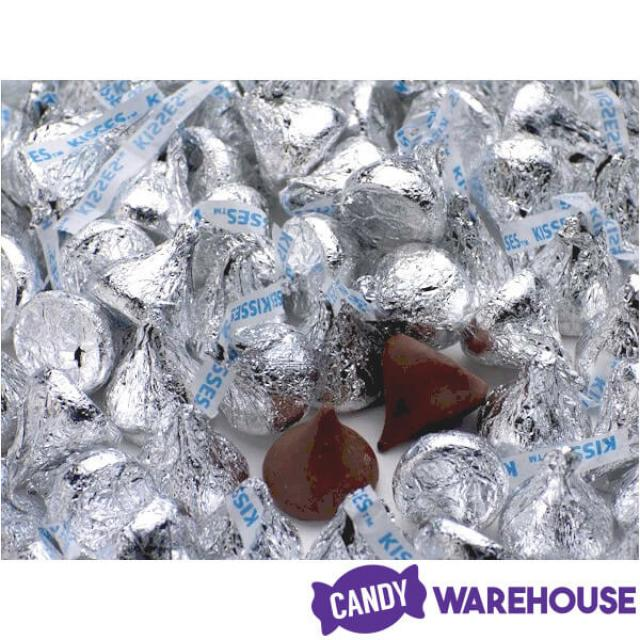kisses: (13, 358, 129, 507), (232, 80, 362, 196), (498, 438, 622, 559), (374, 426, 505, 539), (502, 330, 599, 478), (352, 238, 476, 352), (139, 396, 252, 519), (532, 223, 636, 352), (96, 220, 206, 339), (461, 250, 560, 373), (107, 124, 210, 239), (13, 284, 117, 394), (236, 318, 340, 428), (408, 81, 505, 194), (11, 111, 111, 212), (333, 152, 441, 243), (194, 470, 300, 562), (481, 126, 563, 219)
